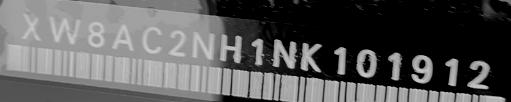letter: (47, 12, 80, 45), (270, 35, 298, 73), (218, 30, 245, 68), (108, 19, 138, 53), (465, 55, 492, 92), (408, 51, 436, 86), (189, 26, 216, 62), (299, 38, 324, 74), (353, 46, 379, 80), (140, 23, 165, 58), (19, 10, 42, 43), (84, 19, 106, 50), (166, 26, 187, 58), (383, 49, 403, 81), (330, 43, 348, 78), (443, 53, 460, 88), (250, 32, 265, 70)
